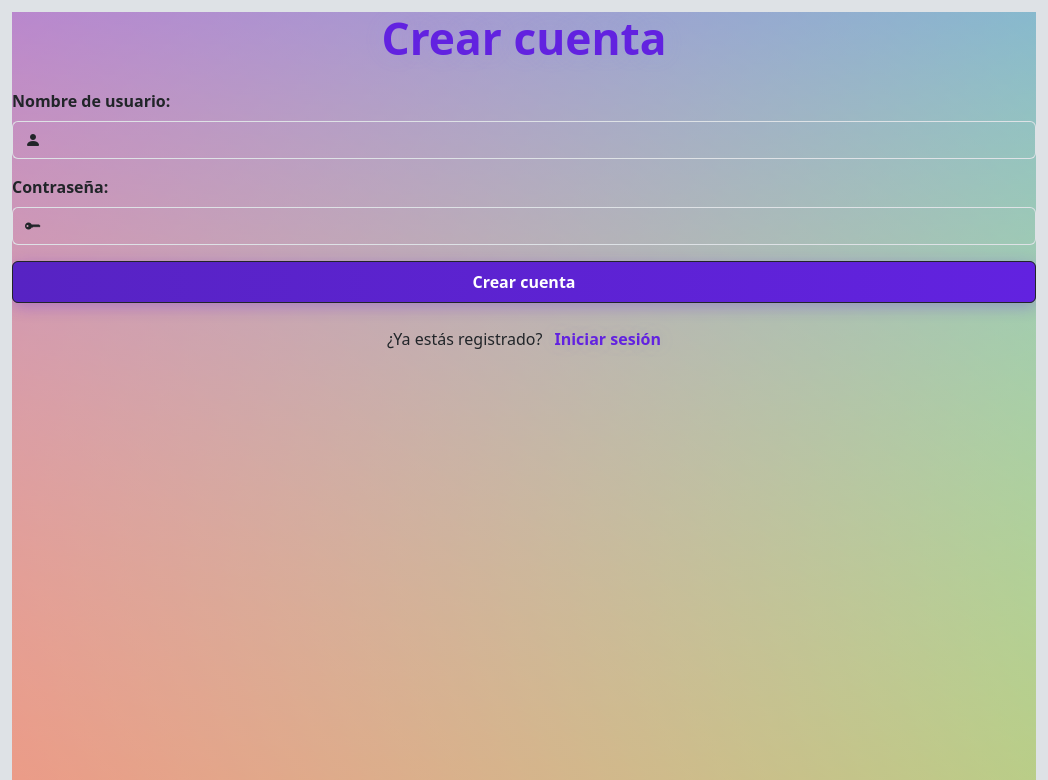
Test: RegisterForm › try register without password
Type "test-username" into the field labelled "Nombre de usuario:" at (544, 140), box [52,121,1036,159]
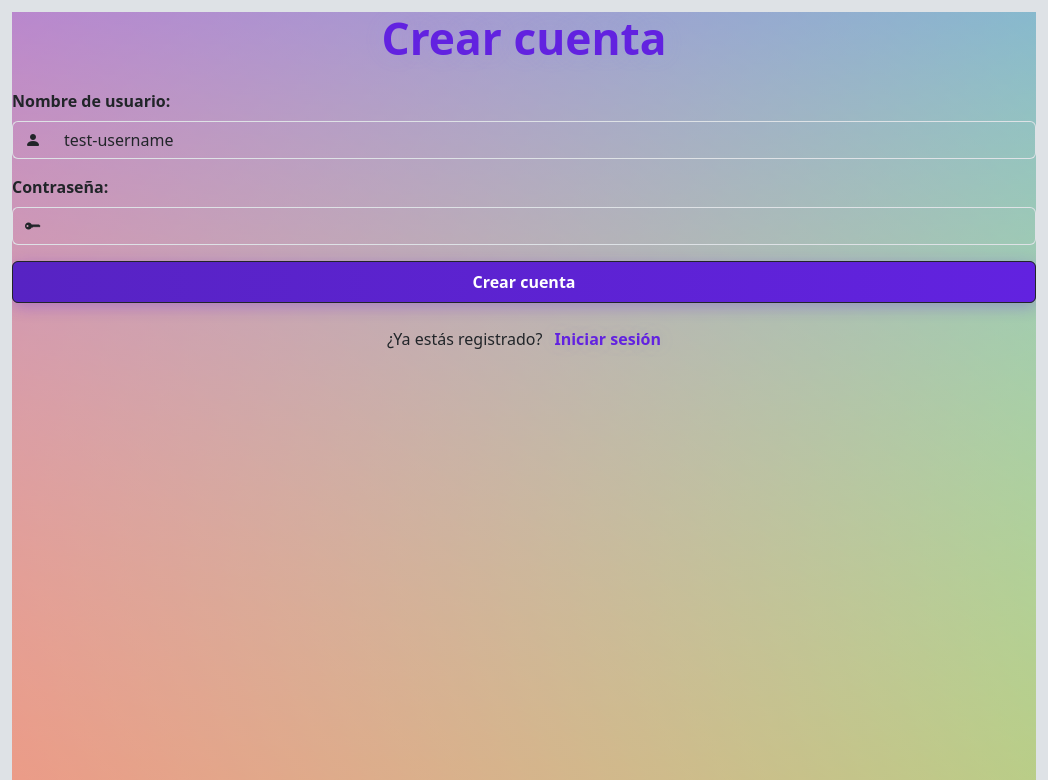
Click the button "Crear cuenta" at (524, 282), box [12,261,1036,303]
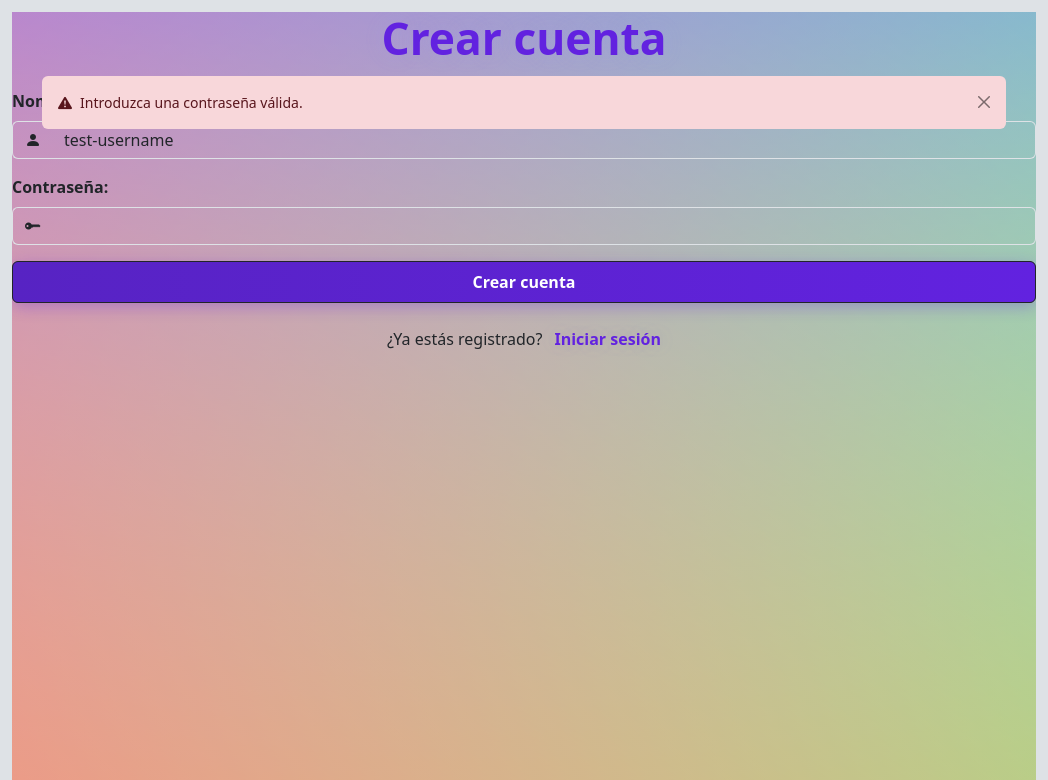
Expected: the text "Introduzca una contraseña válida." is shown, [80,93,303,112]
